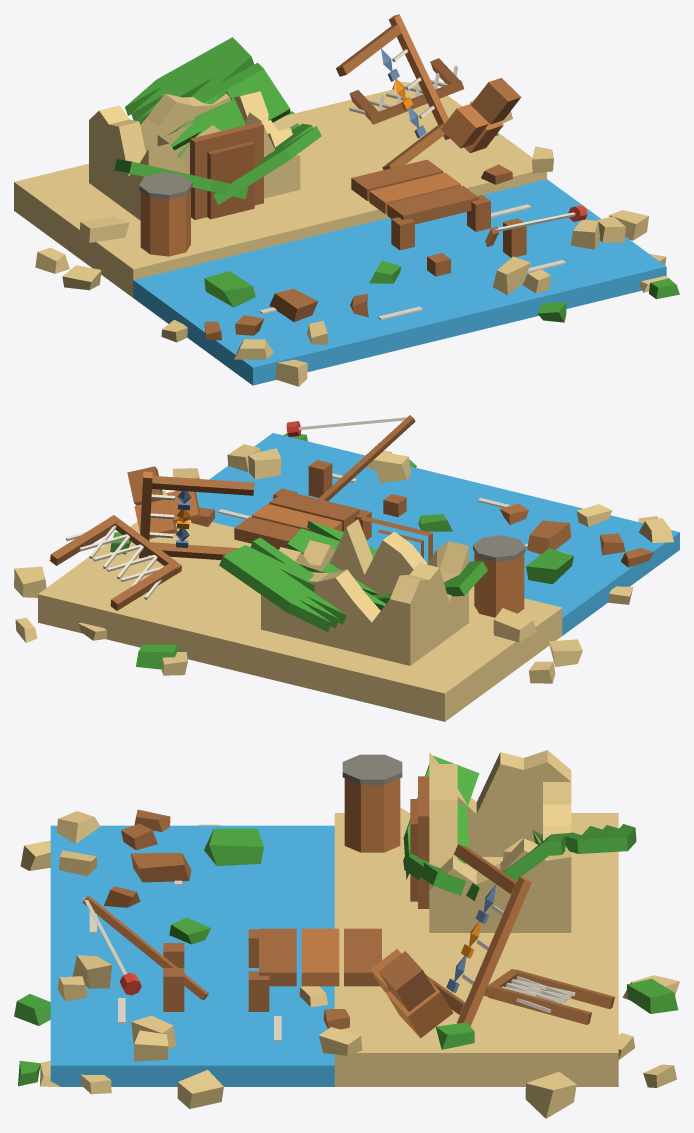
Rendered from fishery_t1_v3_dmg2.glb.
3 views of the same model, one above another, from view 1: azimuth 30°, elevation 25°; view 2: azimuth 150°, elevation 25°; view 3: azimuth 270°, elevation 25° (orthographic). The views are drawn at different scales.
Parts seen in each view (by area): view 1: fishery_t1_v3_dmg2; view 2: fishery_t1_v3_dmg2; view 3: fishery_t1_v3_dmg2.
Boxes of the visible parts, bbox=[...] form: fishery_t1_v3_dmg2: bbox=[14, 14, 679, 386]; fishery_t1_v3_dmg2: bbox=[14, 415, 679, 721]; fishery_t1_v3_dmg2: bbox=[14, 750, 679, 1118].
Size of the model in its own units: 0.7462 by 0.1956 by 0.7038.
Materials: 1 (1 with a texture image).
